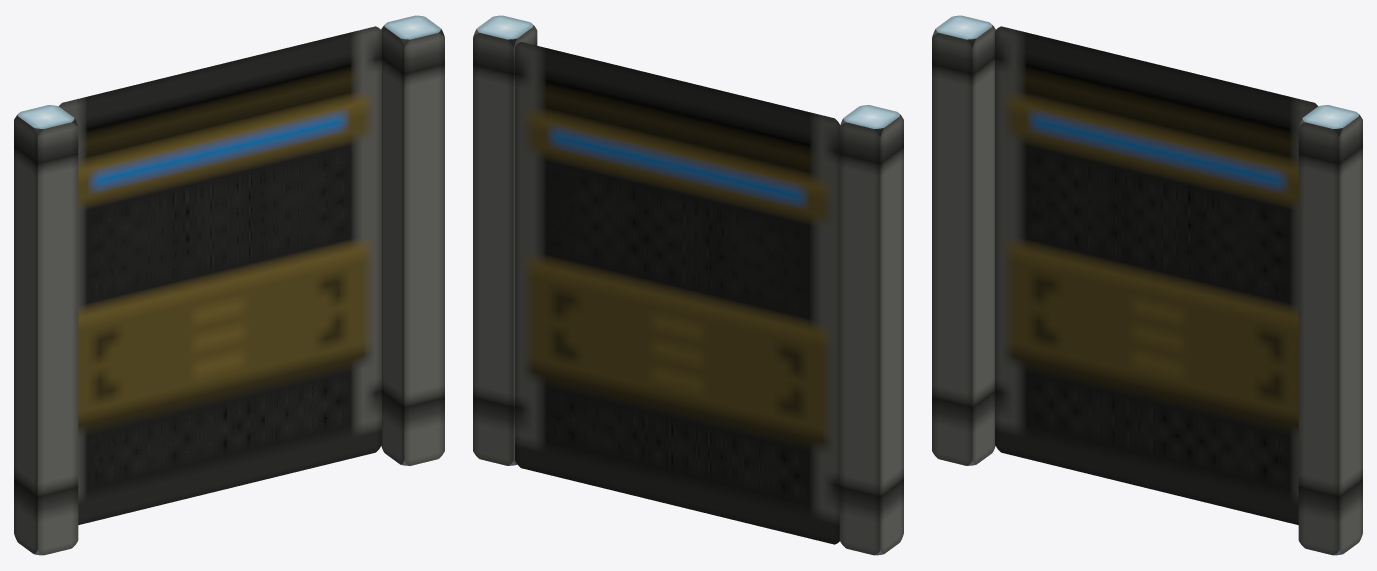
Rendered from ESW.obj.
3 renders of one model, left to right at view 1: azimuth 30°, elevation 25°; view 2: azimuth 150°, elevation 25°; view 3: azimuth 330°, elevation 25°, orthographic.
Parts seen in each view (by area): view 1: N, NW, NE; view 2: N, NW, NE; view 3: N, NE, NW.
Part boxes in pixels (x1=…): N: x1=59, y1=26, x2=381, y2=524; NW: x1=14, y1=105, x2=78, y2=555; NE: x1=381, y1=15, x2=444, y2=465; N: x1=515, y1=42, x2=840, y2=544; NW: x1=839, y1=105, x2=903, y2=555; NE: x1=473, y1=15, x2=537, y2=465; N: x1=995, y1=26, x2=1317, y2=524; NE: x1=1298, y1=105, x2=1362, y2=555; NW: x1=932, y1=15, x2=995, y2=465.
Bounding box in the file's own units: 2 × 2 × 0.2.
Materials: 1 (1 with a texture image).
